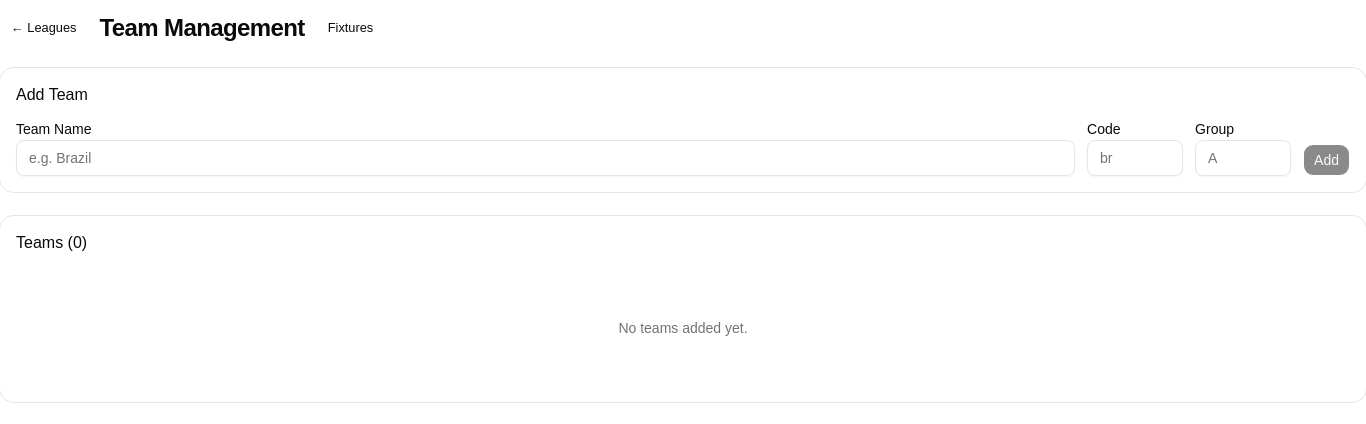
Test: AdminTeamsPage › selects team from autocomplete and fills code
Type "Ger" into the field with placeholder "e.g. Brazil".
click(546, 158); type("Ger")  # box x1=16 y1=140 x2=1075 y2=176
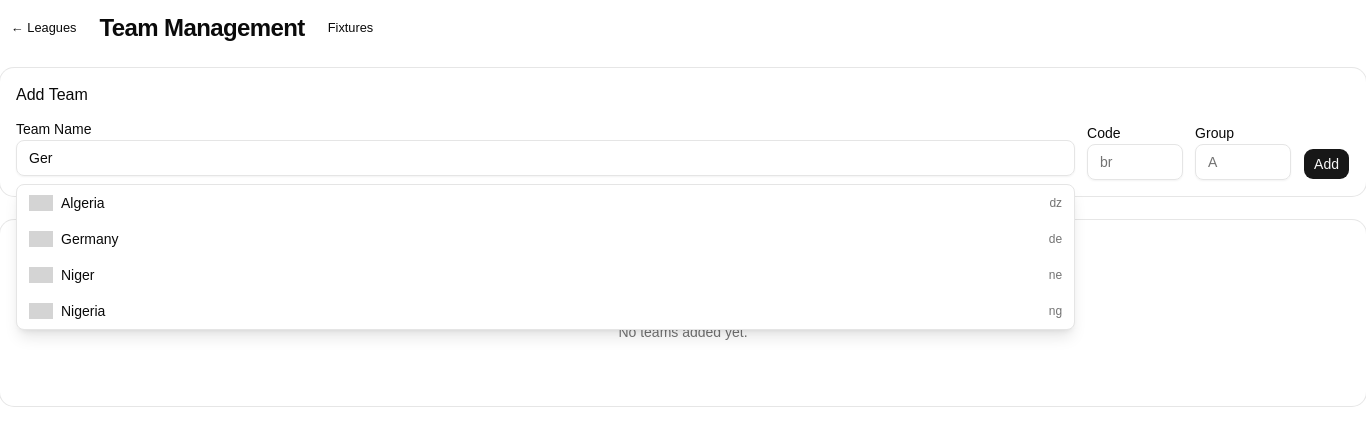
Note: Click the Germany suggestion
Click the text "Germany".
click(90, 239)  # box x1=61 y1=229 x2=119 y2=249
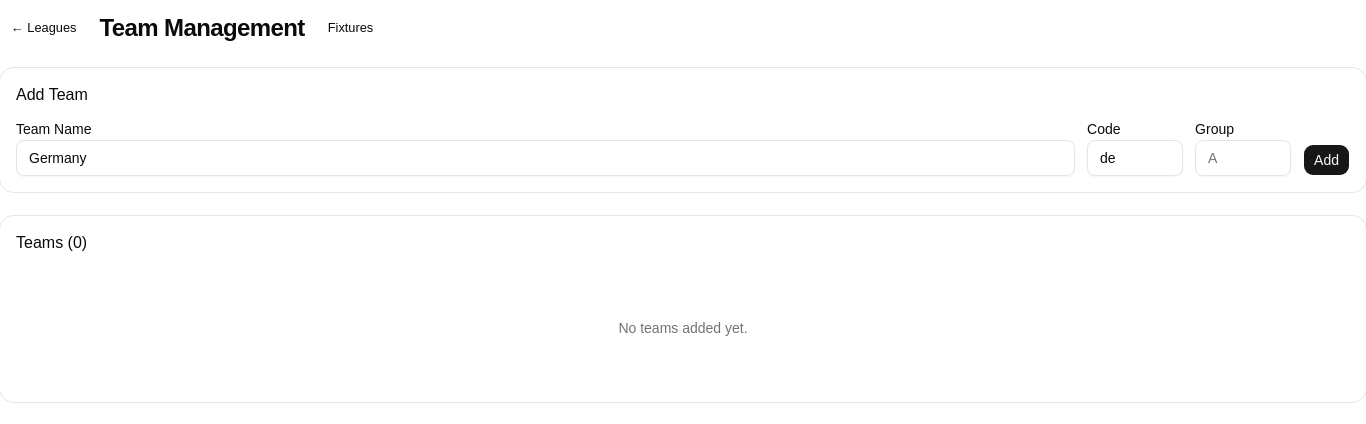
Expected: the field with placeholder "e.g. Brazil" holds "Germany", x1=16 y1=140 x2=1075 y2=176
Expected: the field with placeholder "br" holds "de", x1=1087 y1=140 x2=1183 y2=176
